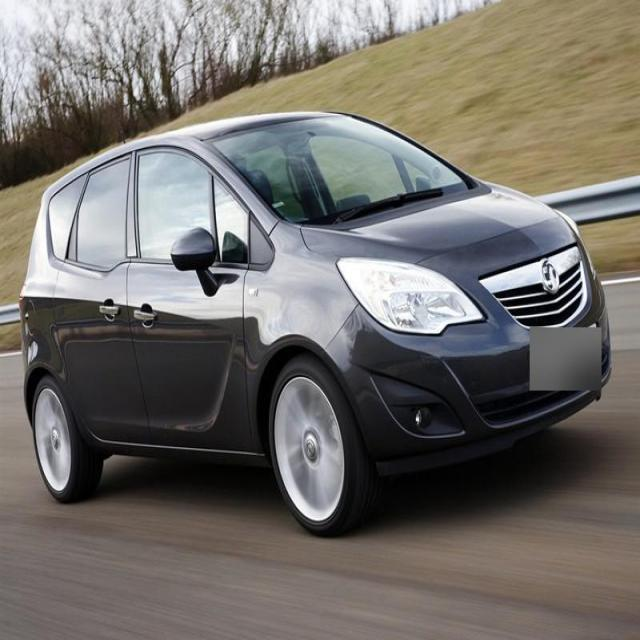door: (53, 161, 133, 454)
front_bumper: (320, 285, 618, 474)
front_glass: (202, 110, 470, 230)
front_left_side_light: (552, 206, 594, 273)
front_right_side_door: (128, 142, 259, 457)
front_right_side_light: (334, 252, 488, 338)
front_right_side_mirror: (171, 224, 223, 299)
wheel: (266, 350, 372, 536), (31, 370, 104, 500)
